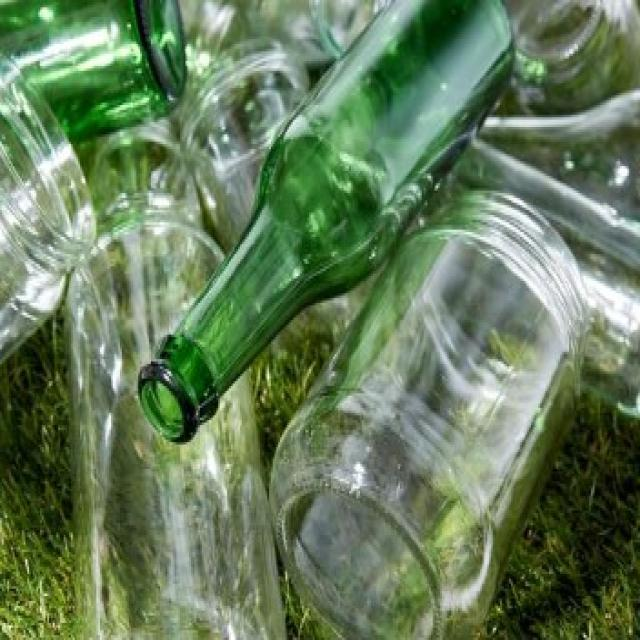electronic: (137, 1, 518, 448)
